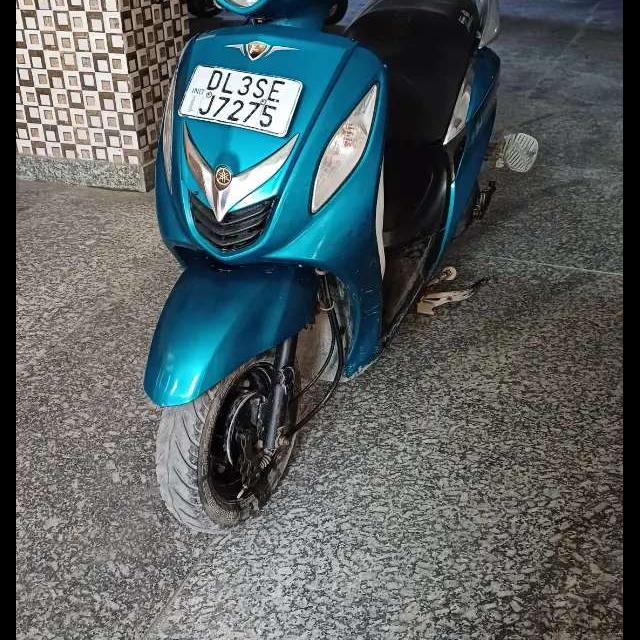Indian_Number_Plate: (180, 64, 302, 135)
